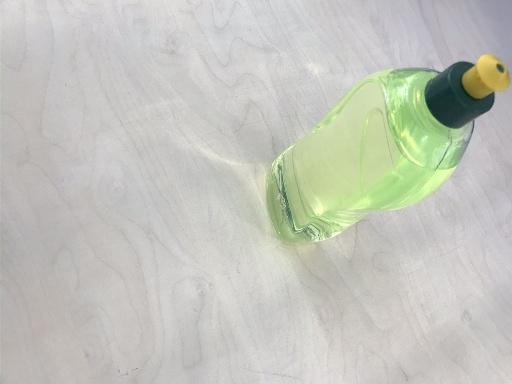Sapone: (265, 50, 512, 242)
